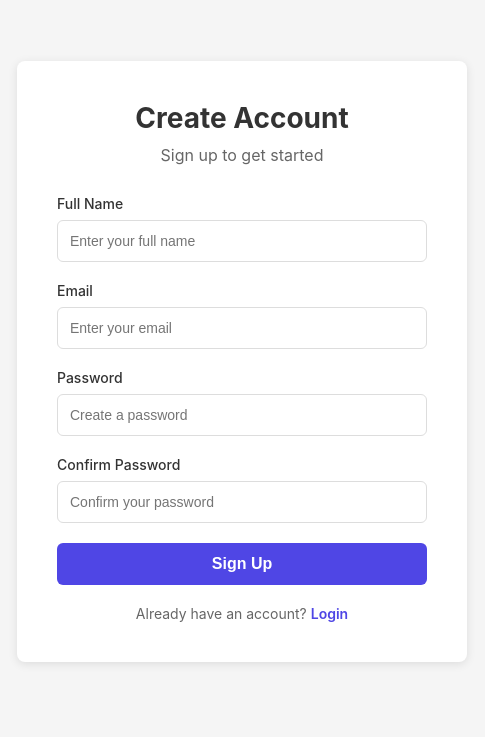
Test: Signup Component › should validate password strength
Type "weak" into the password field labelled "Password" at (242, 414), box [57,394,427,436]
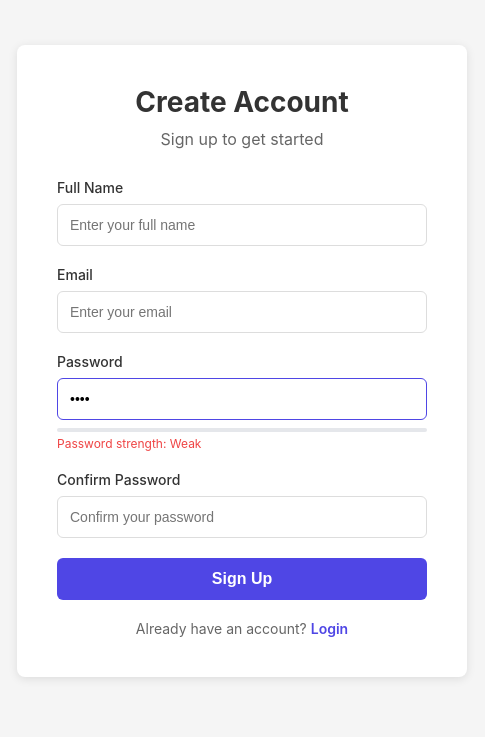
Click the button "Sign Up" at (242, 579), box [57,558,427,600]
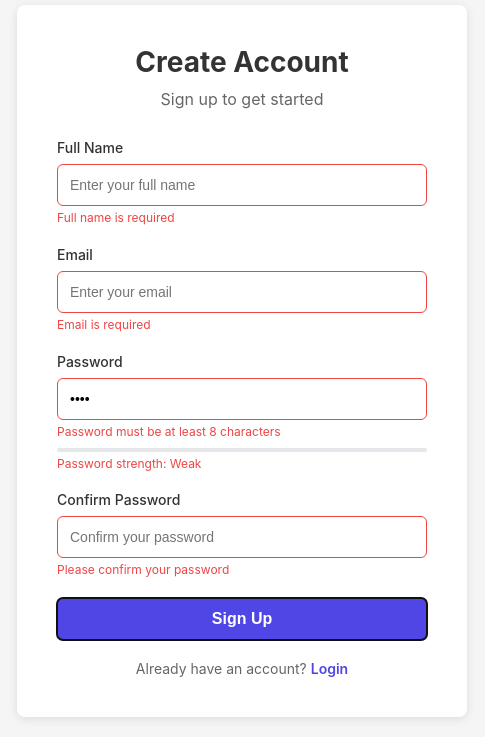
Expected: the text "Password must be at least 8 characters" is shown, [57,424,281,439]
